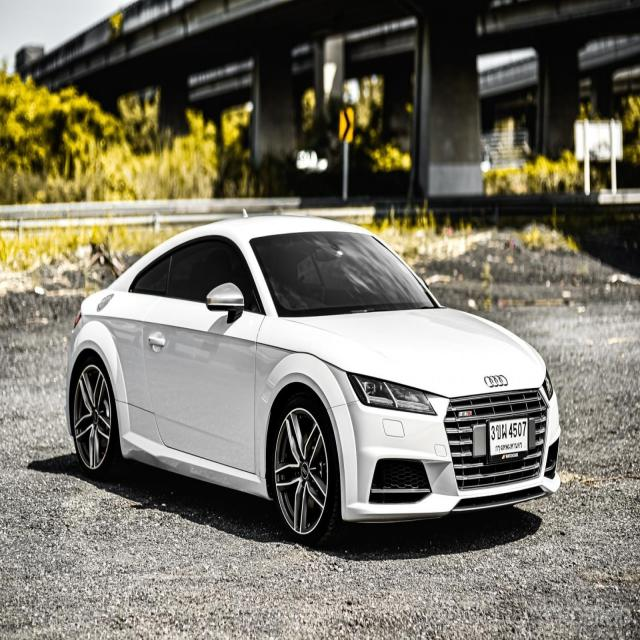license_plate: (486, 414, 532, 459)
